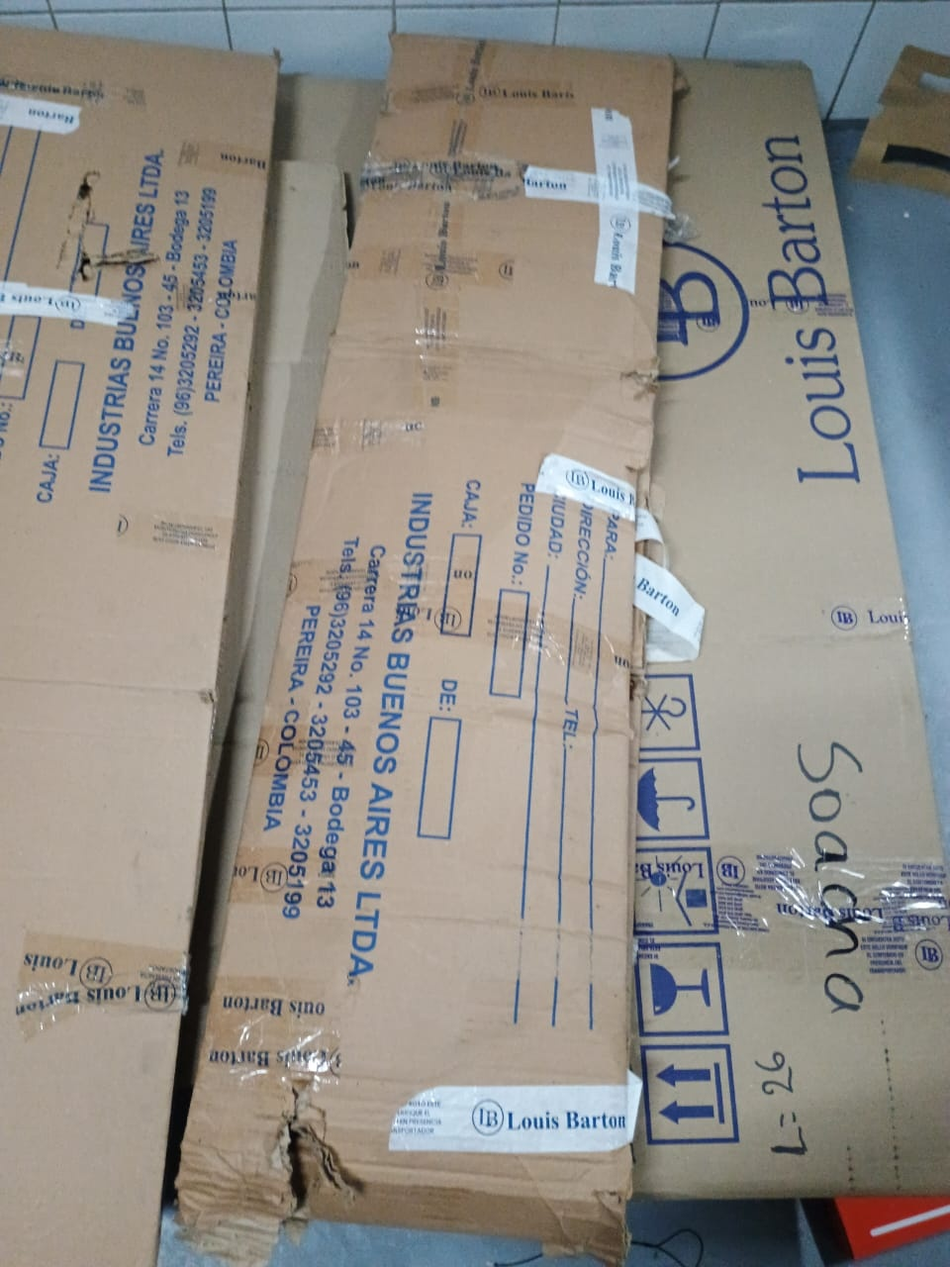Carton: (0, 39, 945, 1205)
